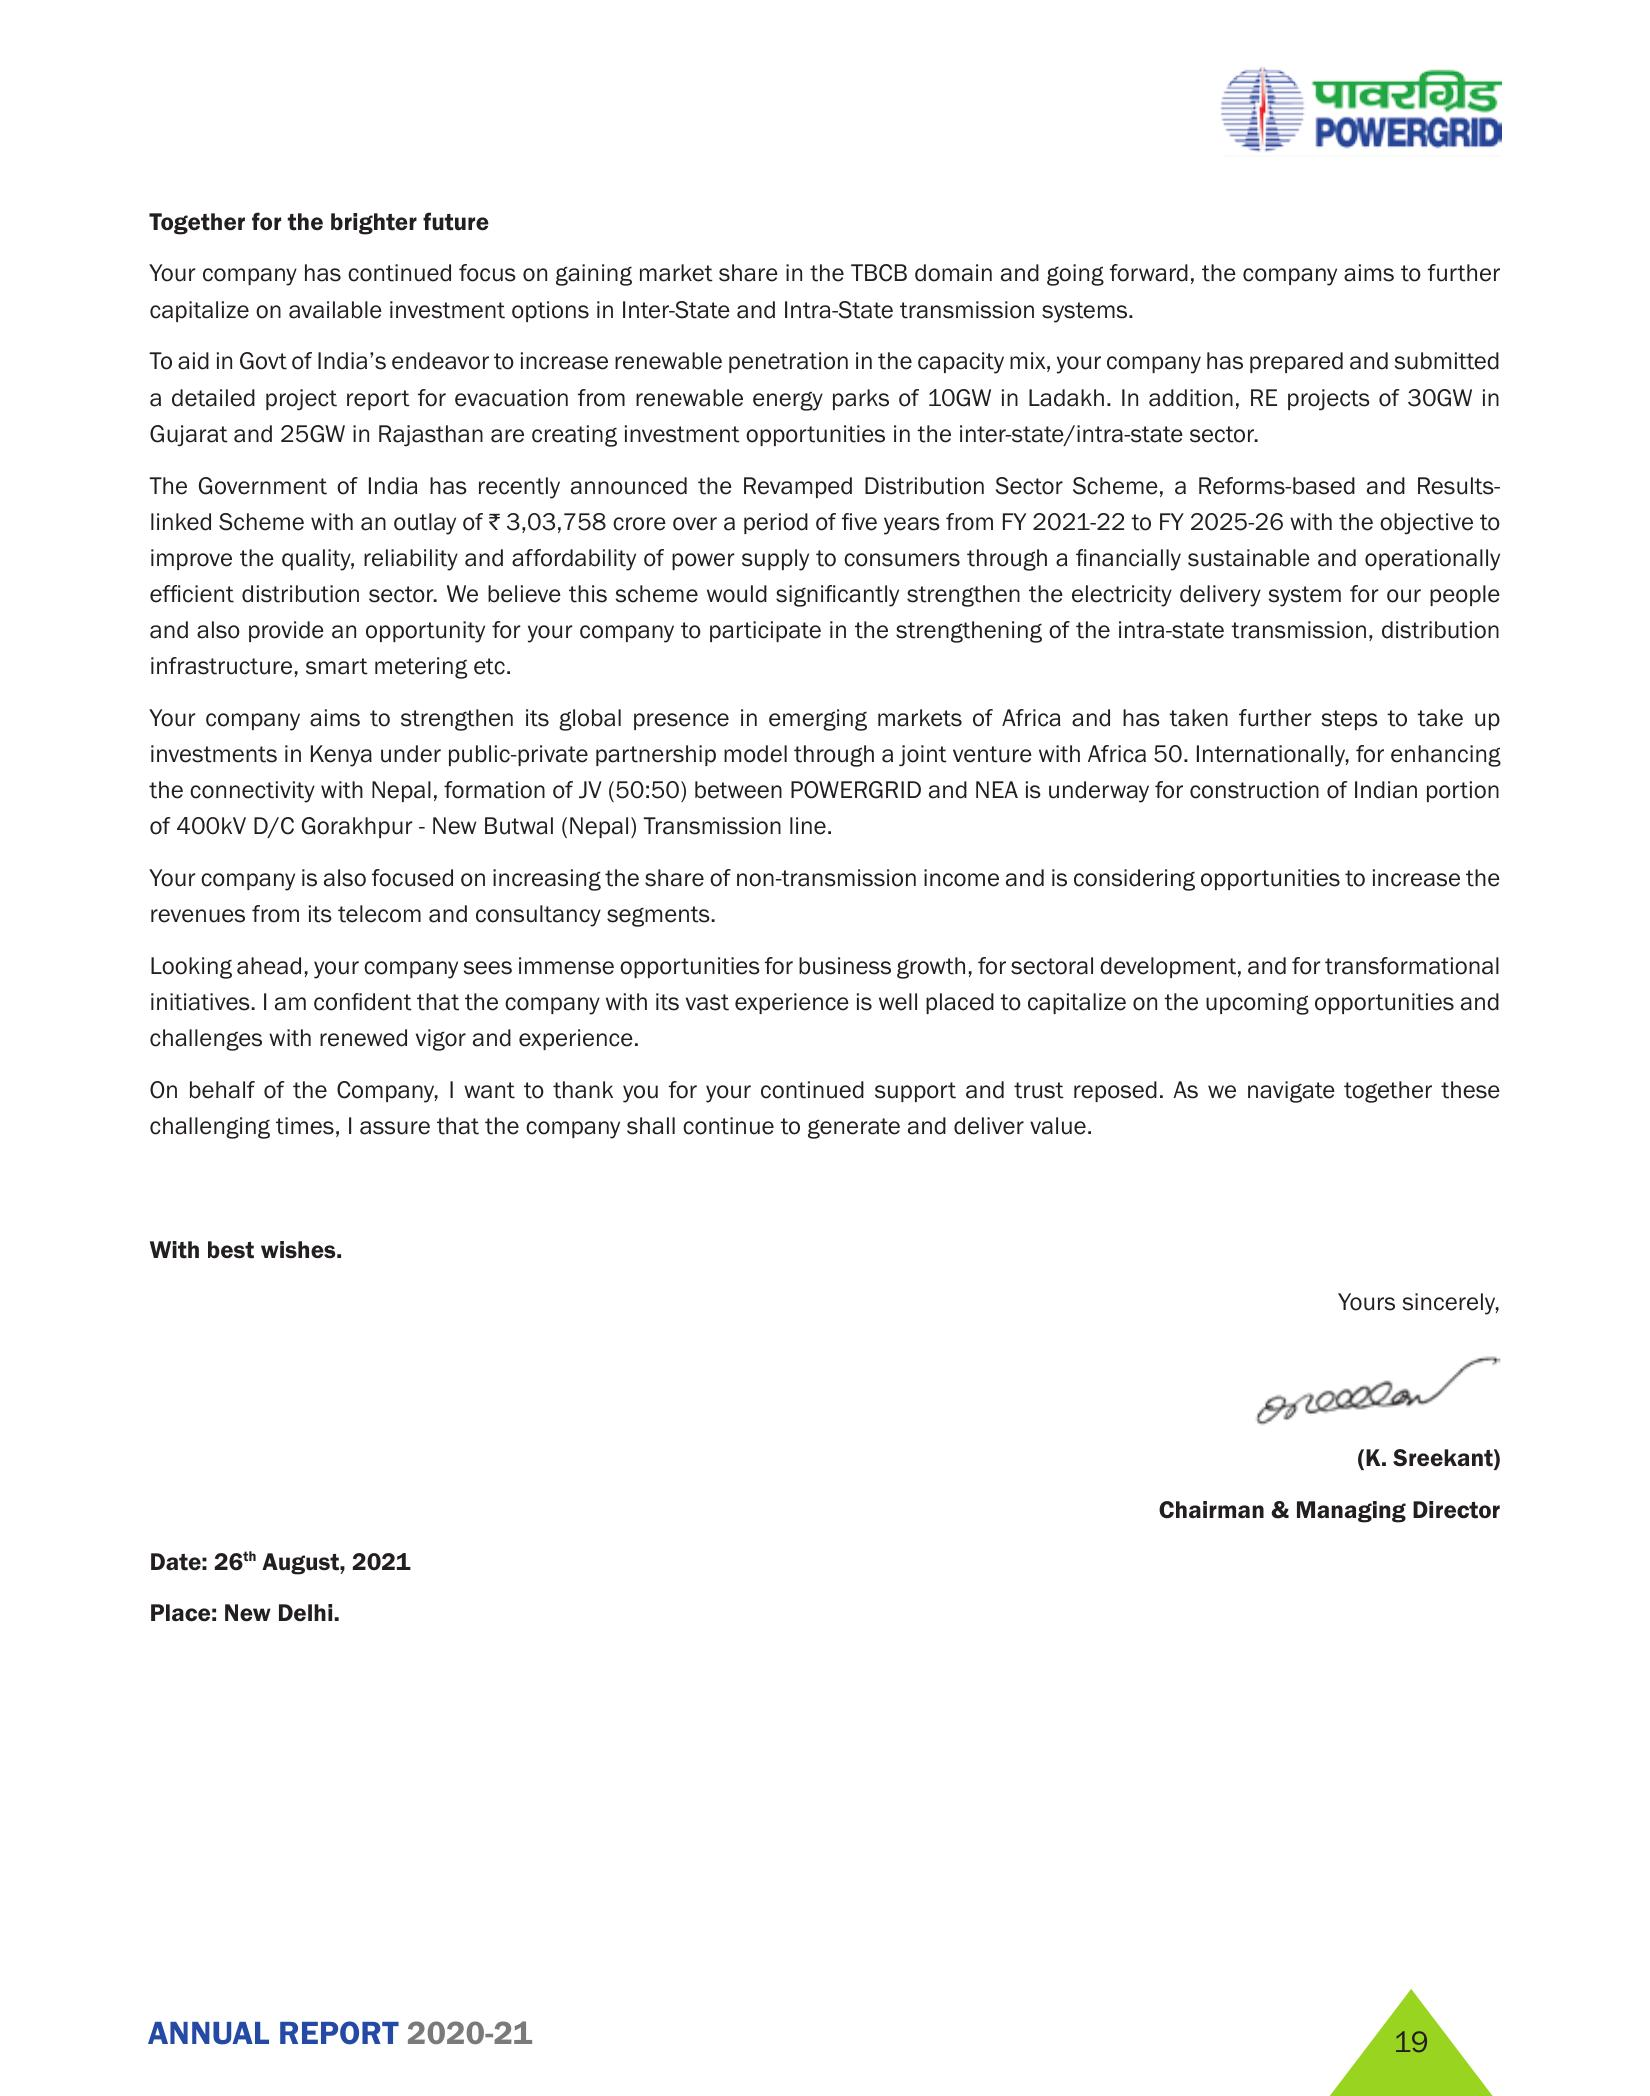Footer: (9, 1953, 1650, 2096)
Header: (0, 0, 1650, 180)
